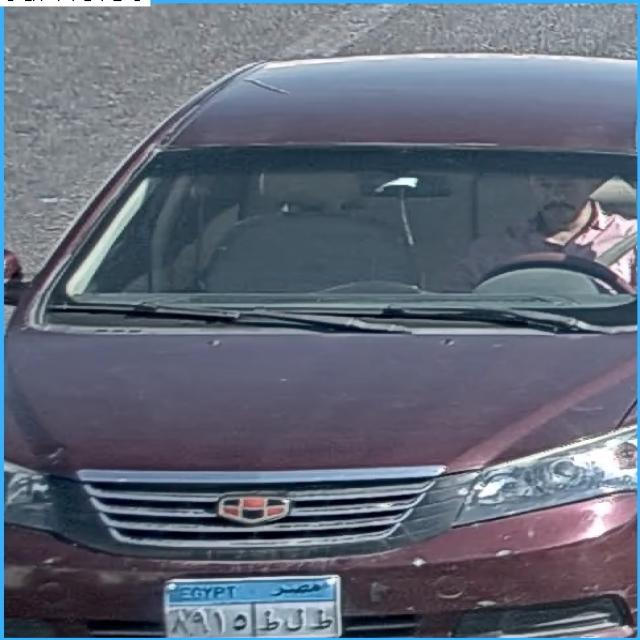windshield: (55, 152, 639, 322)
